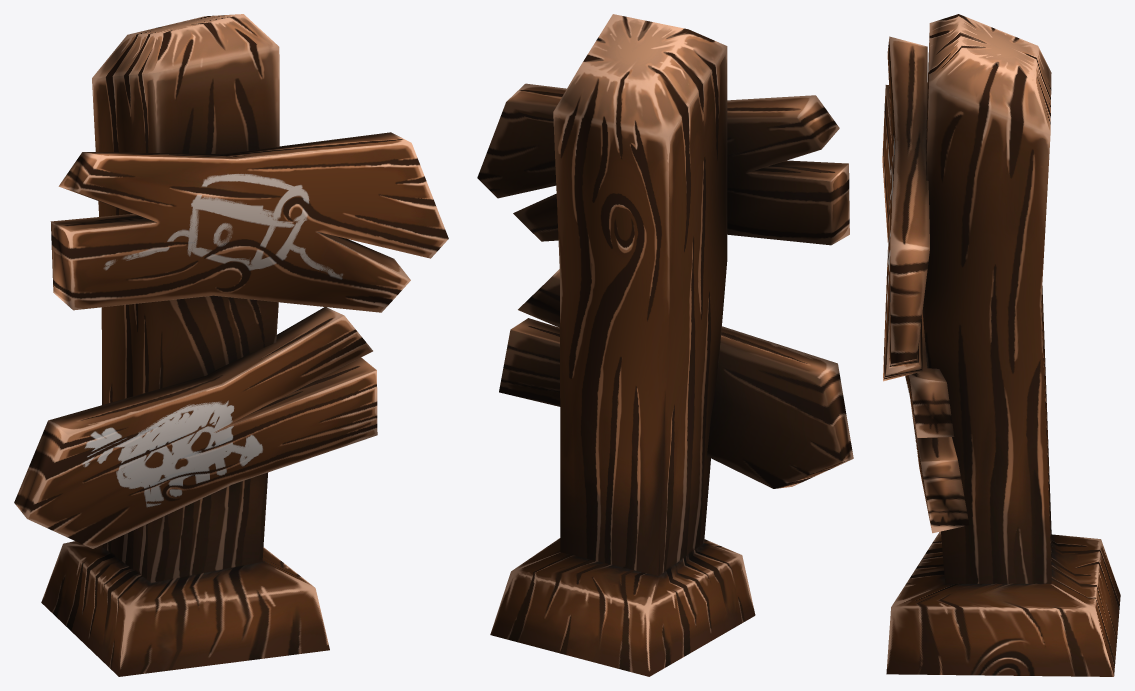
File: panneau.fbx
The picture shows the model from 3 angles, left to right: view 1: azimuth 30°, elevation 25°; view 2: azimuth 150°, elevation 25°; view 3: azimuth 270°, elevation 25°; orthographic projection. The views are drawn at different scales.
Visible parts, largest first — view 1: panneau; view 2: panneau; view 3: panneau.
Boxes of the visible parts, x1,y1,x2,y2 form: panneau: (14, 14, 448, 676); panneau: (477, 14, 853, 676); panneau: (882, 14, 1120, 676).
Size of the model in its own units: 60.41 by 88.36 by 31.78.
